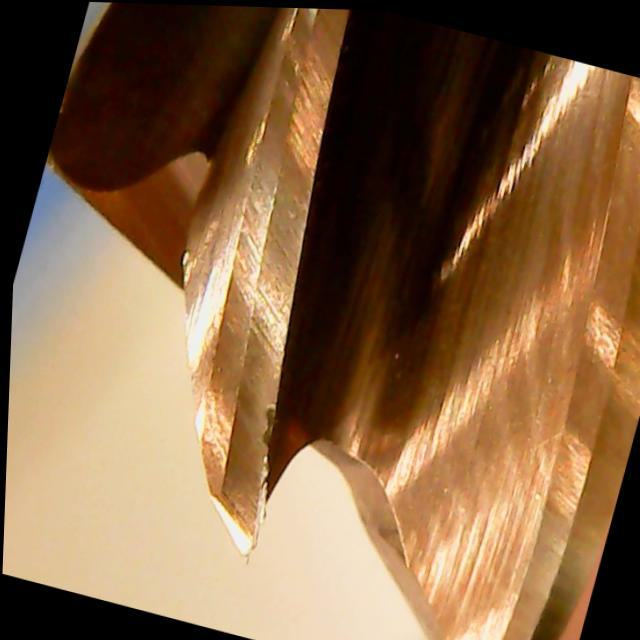Tool-wear-class-1: (116, 206, 358, 567)
